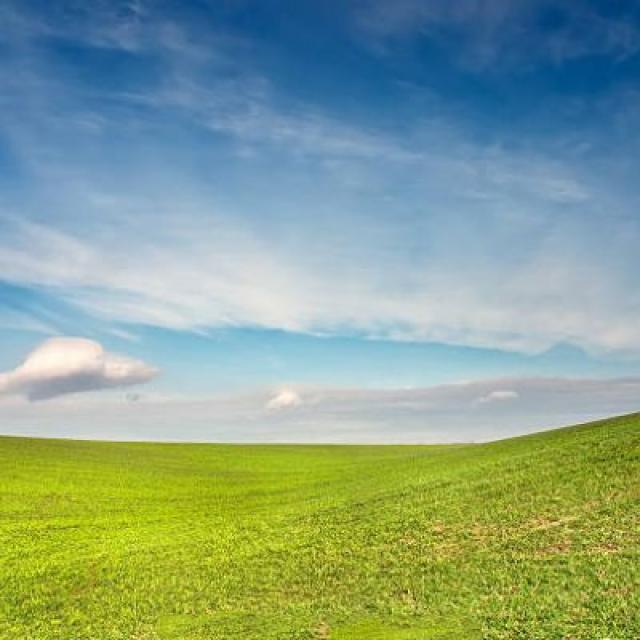Cc: (12, 111, 640, 410)
